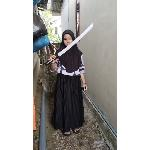Pedang: (44, 23, 96, 67)
